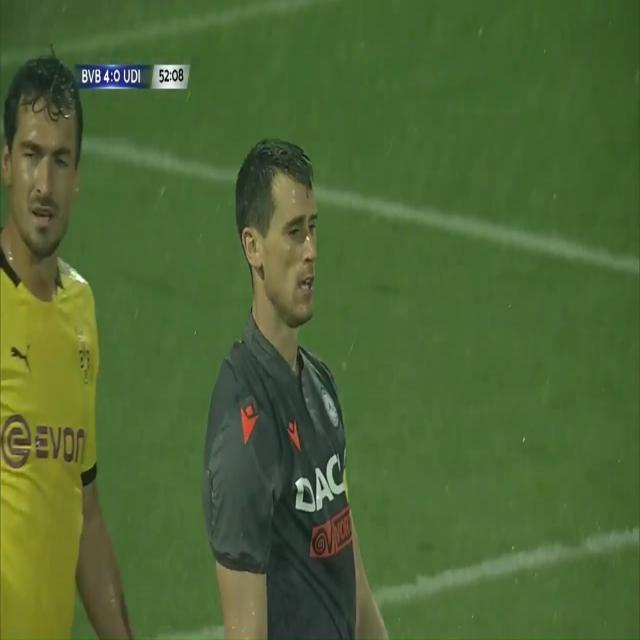player: (208, 129, 393, 640), (1, 44, 157, 640)
